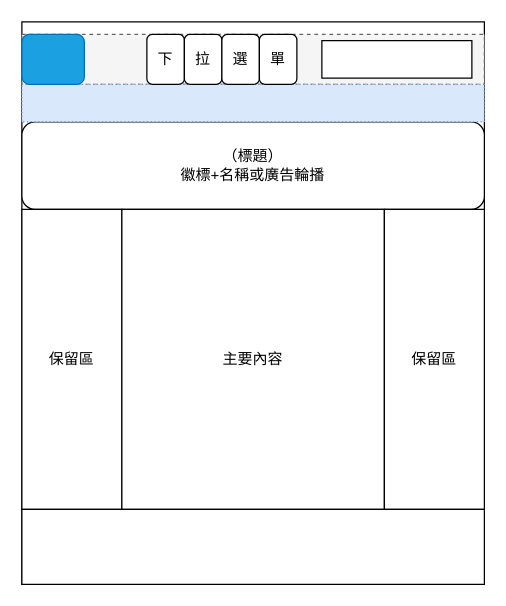
Image size: 506x606. Some labels were removed from this diagram. The shapes that lost their labels are listed below. From the top down, each one's centre as x and y in pixels, then its label:
At (x=52, y=58): "Logo".
At (x=396, y=58): "全站模糊查詢".
At (x=252, y=102): "下拉選單內容(觸發顯示)".
At (x=252, y=546): "全站導覽".
